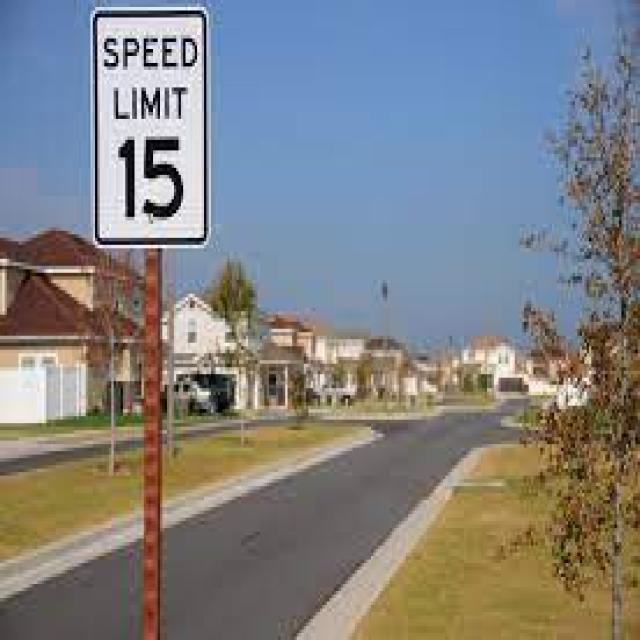speedLimit15: (87, 5, 212, 250)
